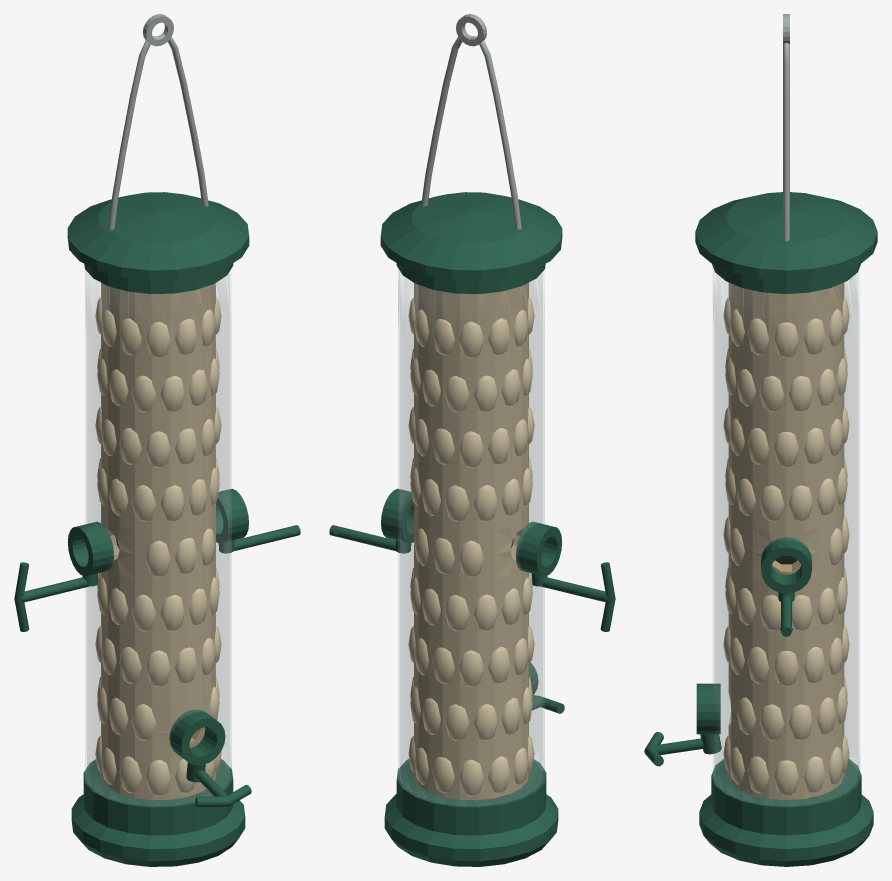
Rendered from A-NEW-20261026-CYLINDER-BIRD-FEEDER-001_LOD2_R4.glb.
3 renders of one model, left to right at view 1: azimuth 30°, elevation 25°; view 2: azimuth 150°, elevation 25°; view 3: azimuth 270°, elevation 25°, orthographic.
Visible parts, largest first — view 1: reservoir tube, simplified internal seed volume, domed top cap, lower green cup, front open feed collar, left open feed collar, right open feed collar, left bail leg, right bail leg, right perch stem, left perch stem, embedded seed 04 08 (+22 smaller); view 2: reservoir tube, simplified internal seed volume, domed top cap, lower green cup, left open feed collar, right open feed collar, left bail leg, right bail leg, right perch stem, left perch stem, embedded seed 04 04, embedded seed 08 04 (+22 smaller); view 3: reservoir tube, simplified internal seed volume, domed top cap, lower green cup, right open feed collar, right bail leg, front open feed collar, embedded seed 00 00, embedded seed 08 00, embedded seed 02 00, embedded seed 06 00, embedded seed 07 11 (+24 smaller).
Boxes of the visible parts, x1,y1,x2,y2 form: reservoir tube: (85,269,231,805); simplified internal seed volume: (101,282,215,800); domed top cap: (67,192,249,293); lower green cup: (71,759,245,866); front open feed collar: (169,709,225,765); left open feed collar: (67,521,114,576); right open feed collar: (216,488,248,543); left bail leg: (108,36,159,229); right bail leg: (158,34,208,206); right perch stem: (234,525,300,550); left perch stem: (21,577,88,602); embedded seed 04 08: (145,540,170,577); reservoir tube: (398,269,544,805); simplified internal seed volume: (414,282,528,800); domed top cap: (380,192,562,293); lower green cup: (384,759,558,866); left open feed collar: (515,521,562,576); right open feed collar: (381,488,413,543); left bail leg: (470,36,521,229); right bail leg: (421,34,471,206); right perch stem: (329,525,395,550); left perch stem: (541,577,608,602); embedded seed 04 04: (459,540,484,577); embedded seed 08 04: (459,321,484,358); reservoir tube: (713,268,859,805); simplified internal seed volume: (728,282,844,799); domed top cap: (695,192,877,293); lower green cup: (699,759,873,866); right open feed collar: (761,537,811,593); right bail leg: (783,43,789,241); front open feed collar: (696,683,720,734); embedded seed 00 00: (773,760,799,795); embedded seed 08 00: (773,322,799,357); embedded seed 02 00: (773,651,799,686); embedded seed 06 00: (773,432,799,467); embedded seed 07 11: (759,376,784,412).
Bounding box in the file's own units: 0.2433 × 0.672 × 0.174.
